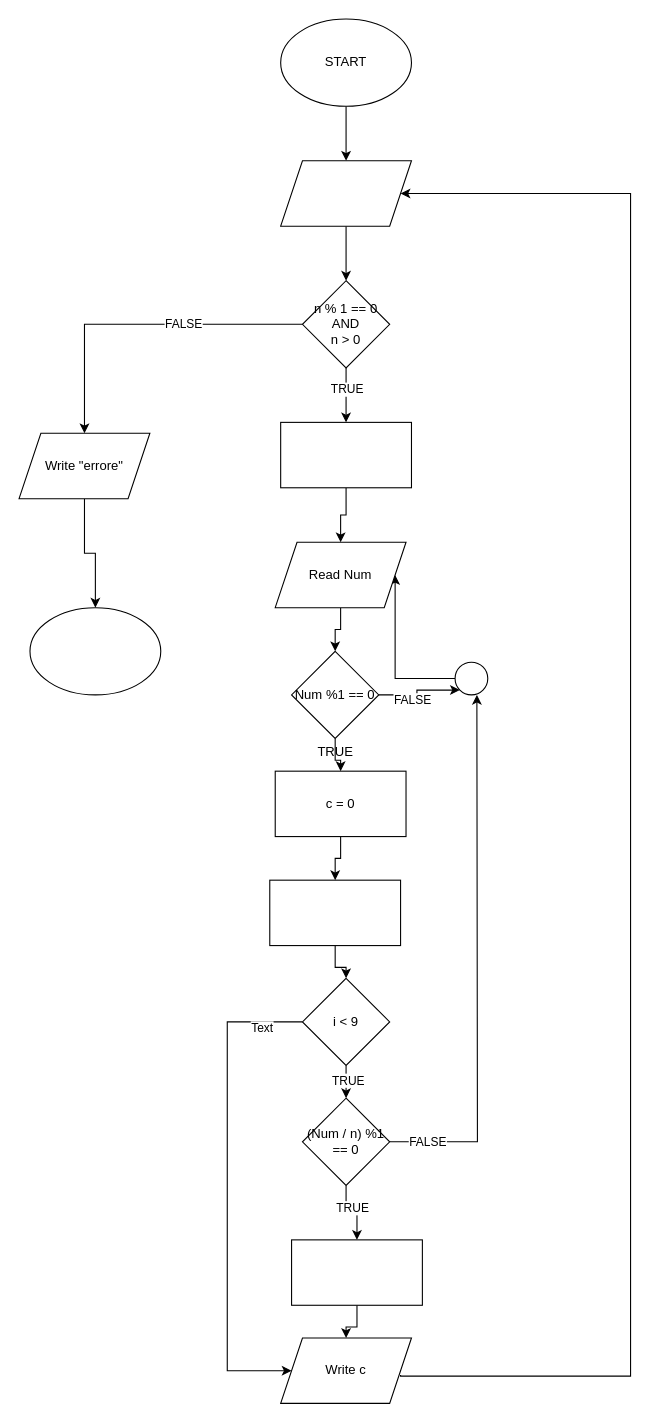
This 658x1422 diagram has some shape labels left out. The shapes that lost their labels are listed below. From the top down, each one's box as (x1, y1, x2, y2) in pixels, then its label:
(280, 160, 411, 226): Read n
(280, 421, 411, 488): i = 0
(29, 607, 161, 695): END
(269, 879, 401, 946): i +1
(290, 1239, 422, 1305): c = c+1
